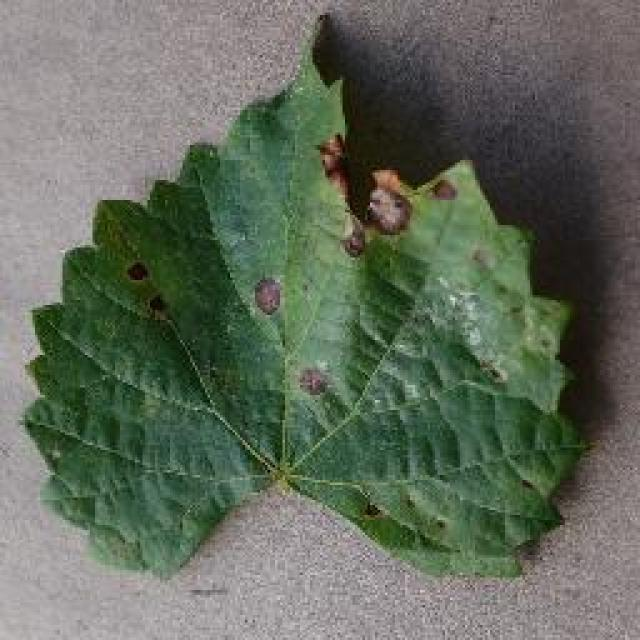Grape___Black_rot: (15, 9, 602, 588)
